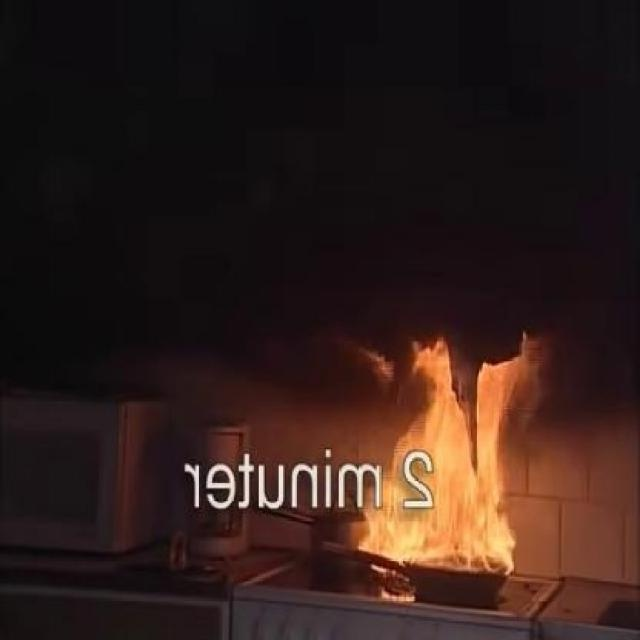fire: (308, 301, 562, 617)
